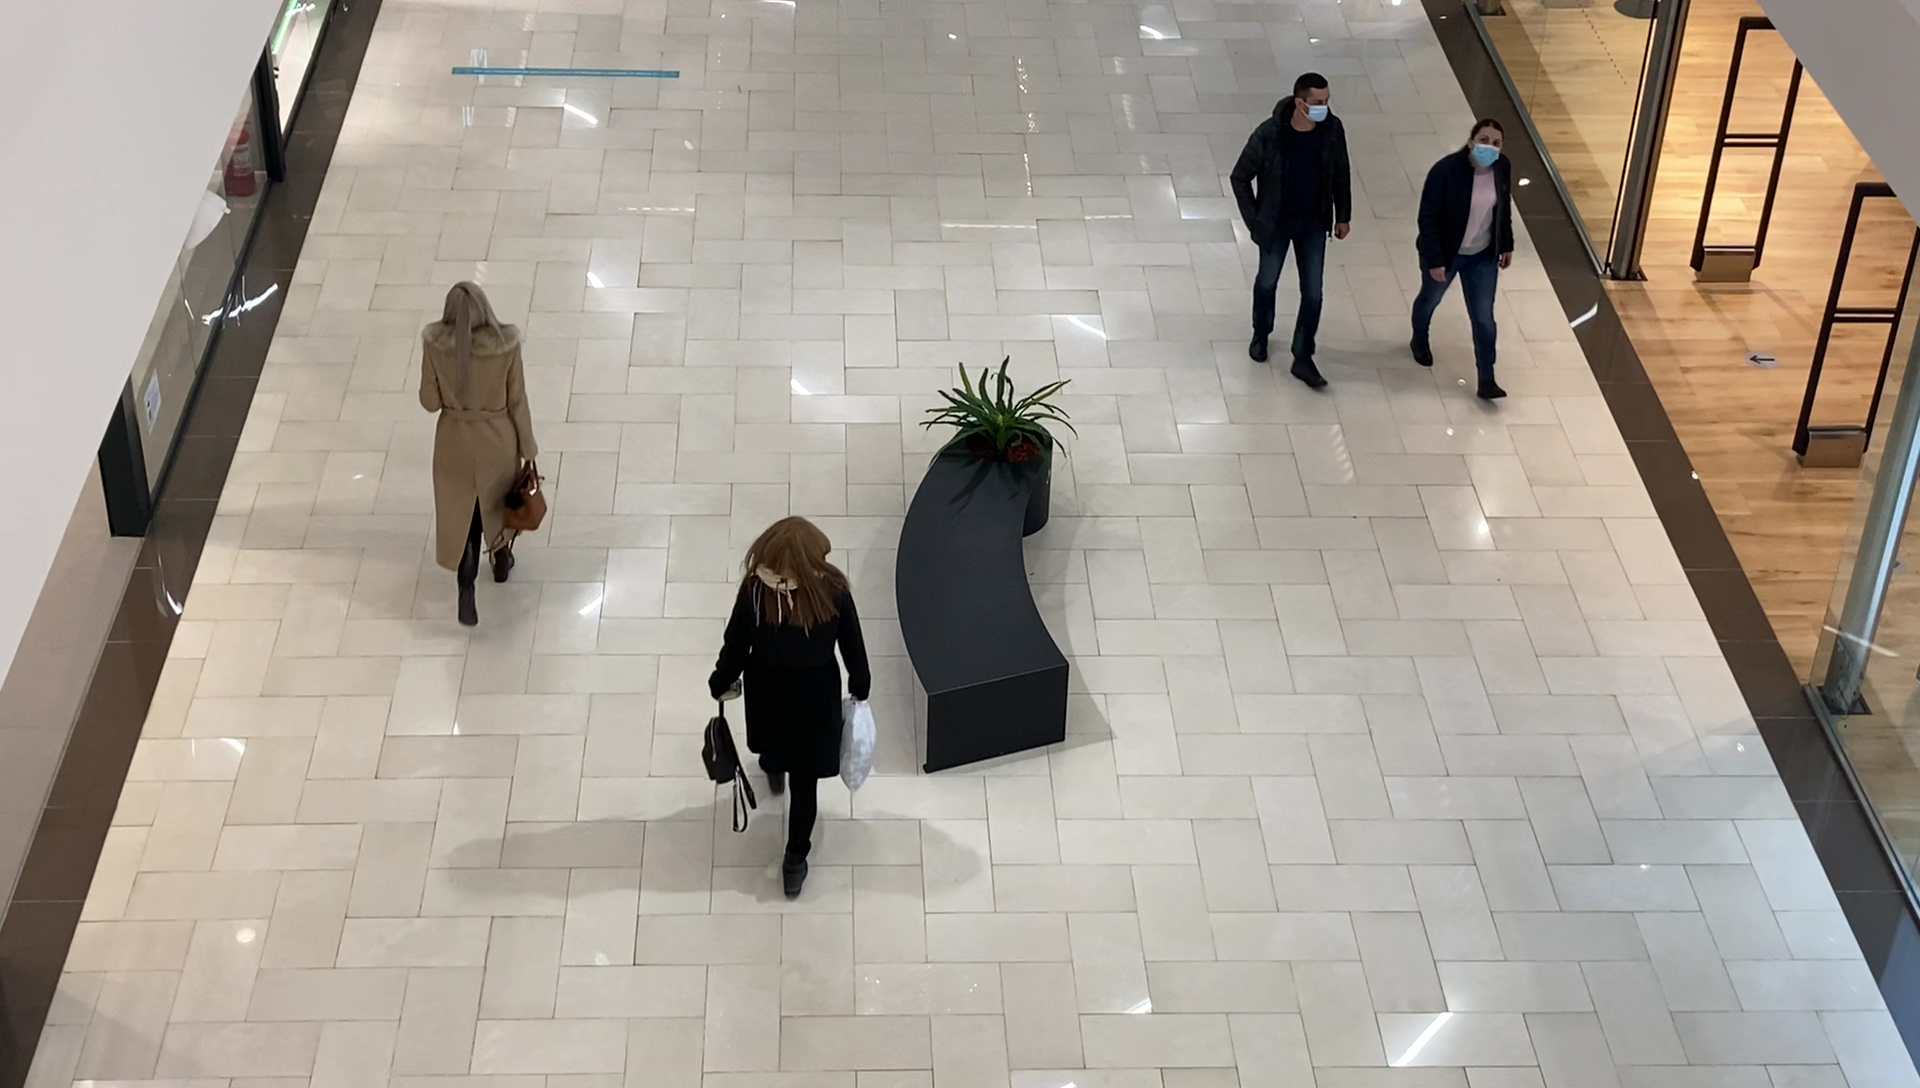person: (708, 517, 875, 899), (418, 280, 549, 629), (1232, 74, 1352, 392), (1412, 119, 1512, 401)
